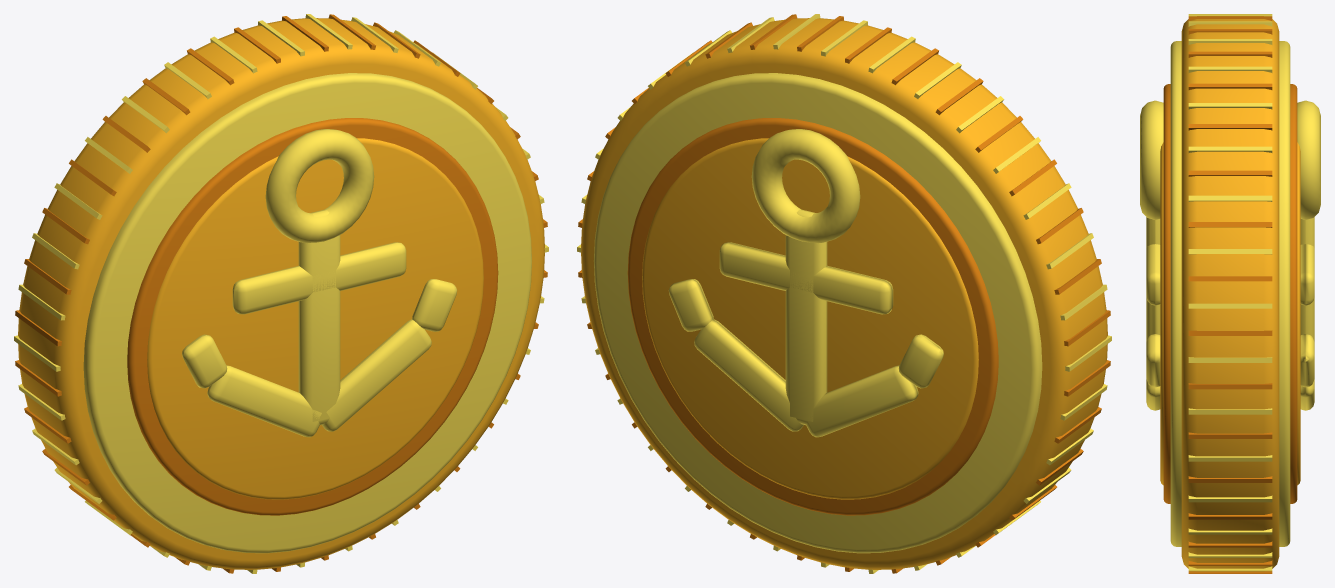
The model's file is AnchorCoin.fbx.
3 renders of one model, left to right at view 1: azimuth 30°, elevation 25°; view 2: azimuth 150°, elevation 25°; view 3: azimuth 270°, elevation 25°, orthographic.
Visible parts, largest first — view 1: Coin Gold - warm polished, Coin Gold - bevel highlight, Coin Gold - inset; view 2: Coin Gold - warm polished, Coin Gold - bevel highlight, Coin Gold - inset; view 3: Coin Gold - warm polished, Coin Gold - bevel highlight, Coin Gold - inset.
Boxes of the visible parts, x1,y1,x2,y2 form: Coin Gold - warm polished: [18, 18, 544, 569]; Coin Gold - bevel highlight: [14, 14, 548, 573]; Coin Gold - inset: [15, 14, 547, 573]; Coin Gold - warm polished: [581, 18, 1107, 569]; Coin Gold - bevel highlight: [577, 14, 1111, 573]; Coin Gold - inset: [578, 14, 1110, 573]; Coin Gold - warm polished: [1160, 16, 1300, 571]; Coin Gold - bevel highlight: [1140, 14, 1320, 571]; Coin Gold - inset: [1163, 16, 1297, 573].
Bounding box in the file's own units: 2.01 × 2.01 × 0.65.
